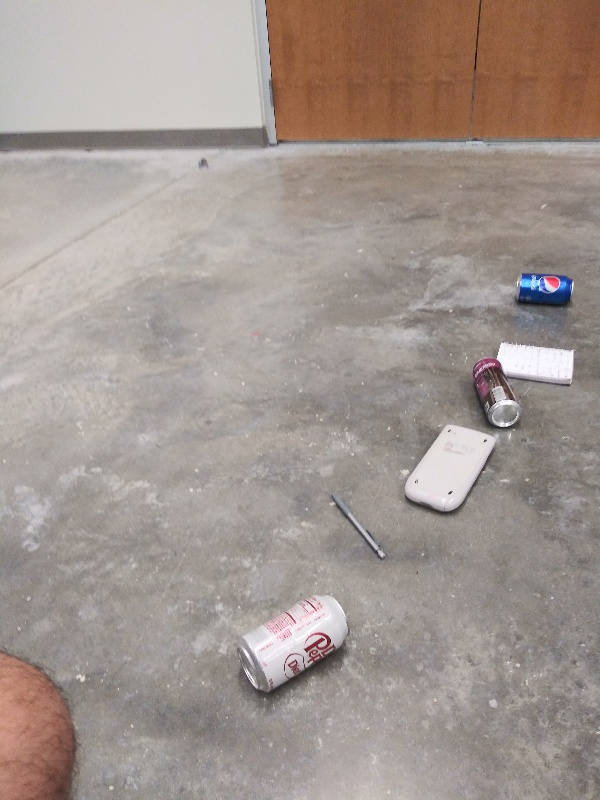can: (230, 589, 354, 692), (470, 355, 526, 432), (511, 269, 582, 311)
